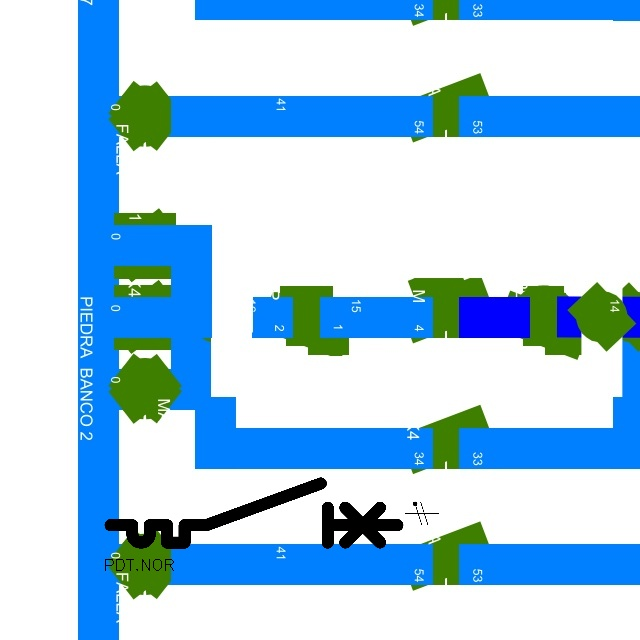interruptor_termomagnetico: (103, 476, 405, 550)
